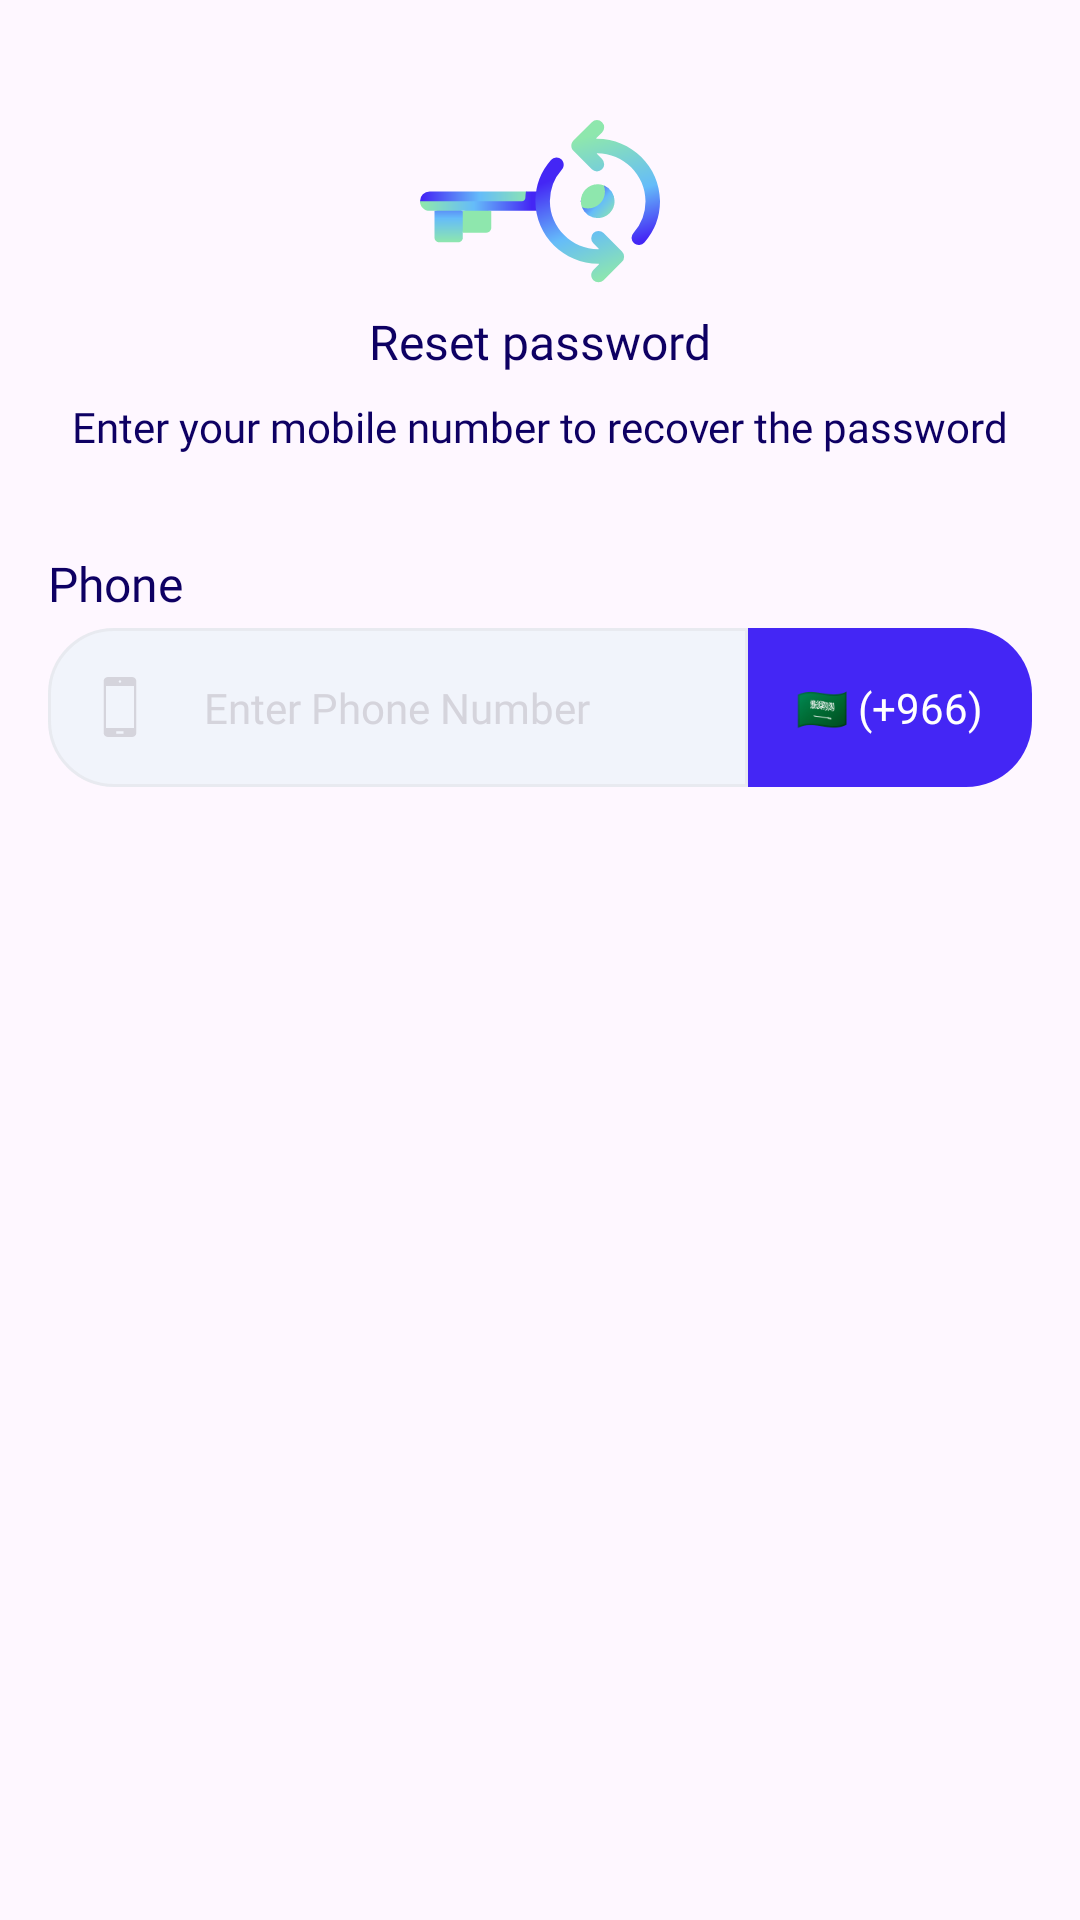

Icons on this 1080 × 1920 Android screen, each with its box as (x1, y1, x2, y2):
key: (420, 120, 660, 282)
